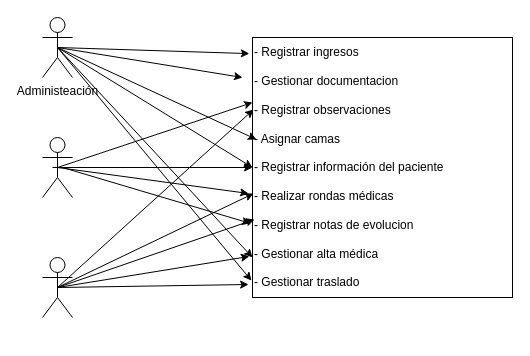
The diagram is 530 pixels wide and 356 high, and some of its shapes have lost their labels. The centre of each missing label's shape, as x and y in pixels:
Enfermeria: (57,167)
Médico: (57,287)
